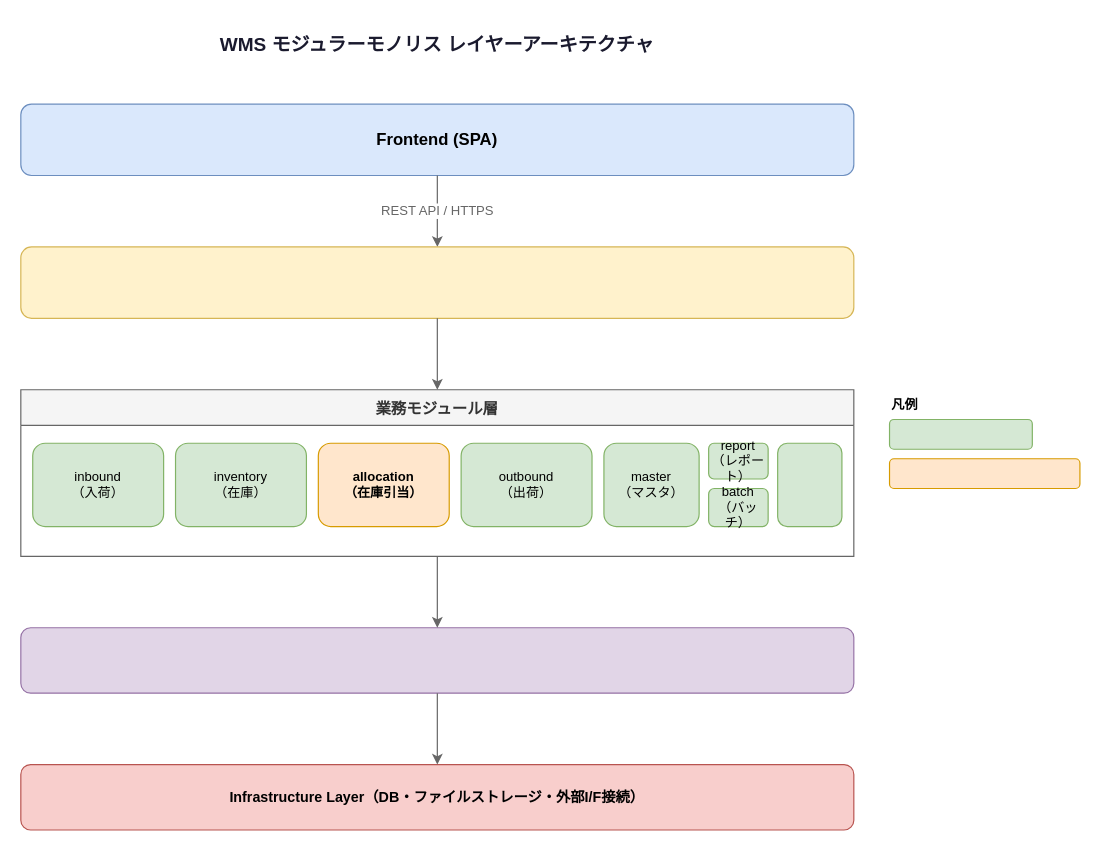
Some shapes in this 1101 by 851 pixel diagram are drawn without their labels. Here are the shapes that lost their labels. From the top down, the centre of each, then its label:
At point 437,282: "API Gateway Layer（認証・ルーティング）".
At point 960,433: "コアモジュール".
At point 809,484: "interface （外部連携）".
At point 984,473: "在庫引当（独立モジュール）".
At point 437,660: "Shared Layer（共通基盤：ロギング・エラーハンドリング・バリデーション）".
